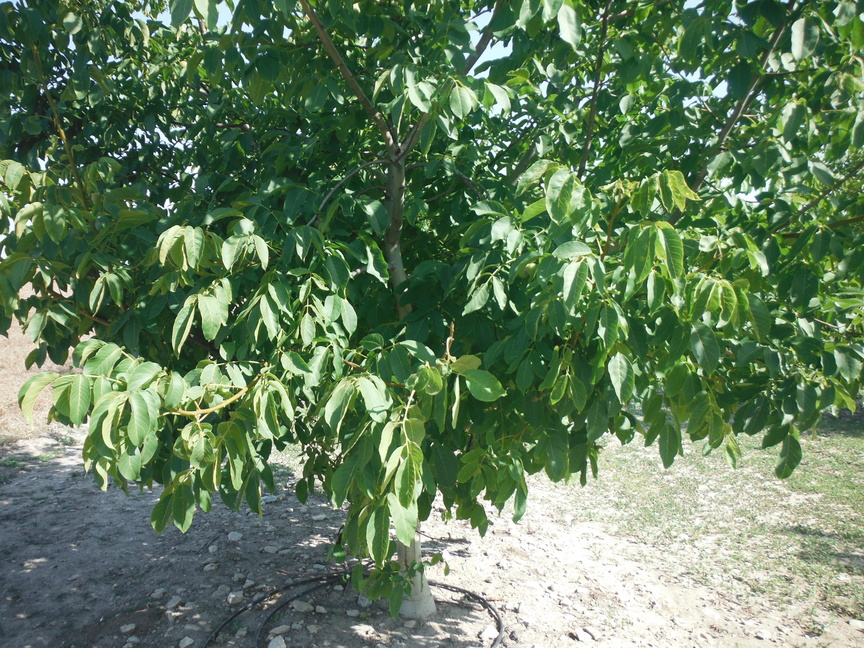walnut: (515, 260, 531, 280), (525, 262, 541, 277), (179, 59, 191, 70)
